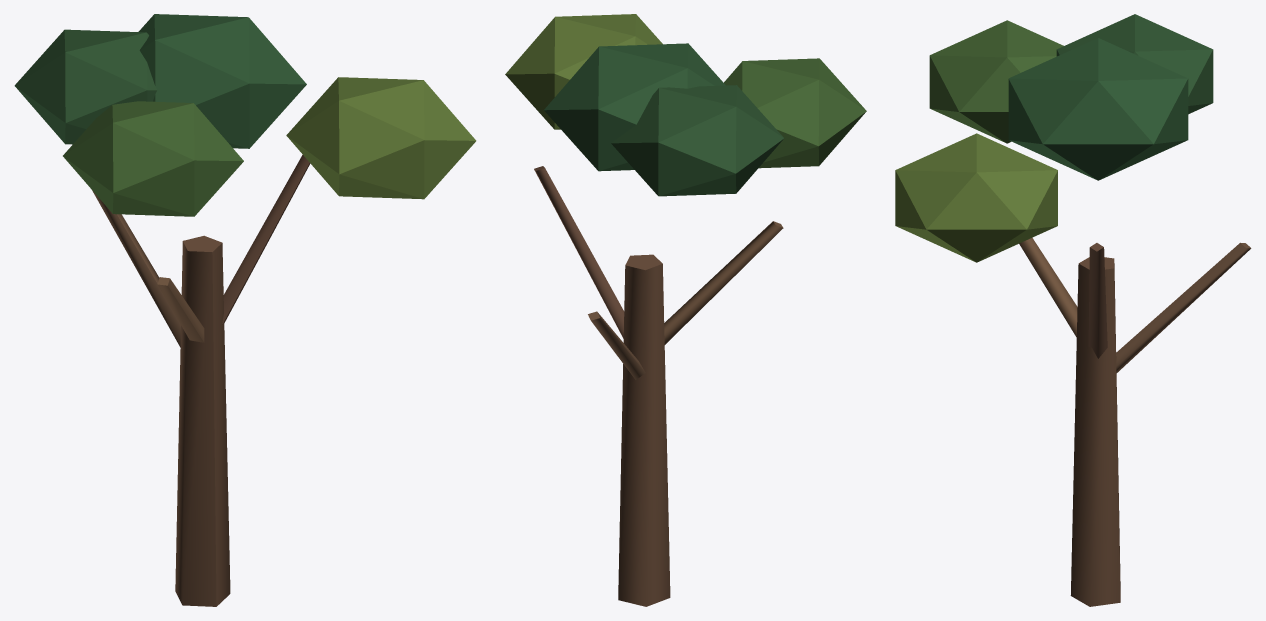
File: broadleaf-irregular.far.glb
3 views of the same model, side by side, from view 1: azimuth 30°, elevation 25°; view 2: azimuth 150°, elevation 25°; view 3: azimuth 270°, elevation 25° (orthographic). The views are drawn at different scales.
Visible parts, largest first — view 1: foliage, wood; view 2: foliage, wood; view 3: foliage, wood.
Boxes of the visible parts, left/top/right/bottom form: foliage: left=14, top=14, right=476, bottom=216; wood: left=92, top=155, right=310, bottom=606; foliage: left=505, top=14, right=866, bottom=196; wood: left=534, top=166, right=783, bottom=606; foliage: left=895, top=14, right=1213, bottom=262; wood: left=1019, top=237, right=1251, bottom=606.
Size of the model in its own units: 4.46 by 7 by 4.21.
